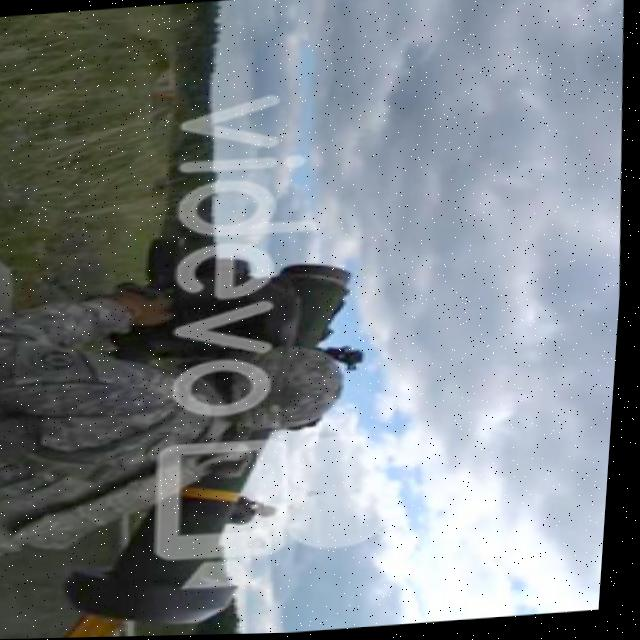rocket: (57, 433, 283, 633)
